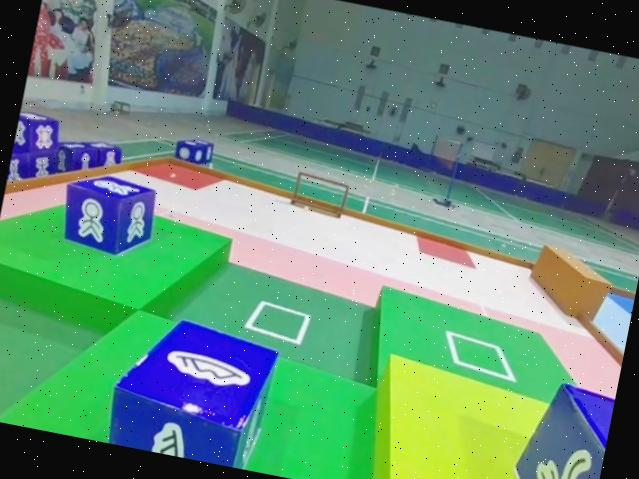R2 Real Blue: (98, 303, 289, 472), (500, 377, 615, 479), (54, 168, 163, 265), (48, 133, 123, 186), (7, 110, 62, 181)
